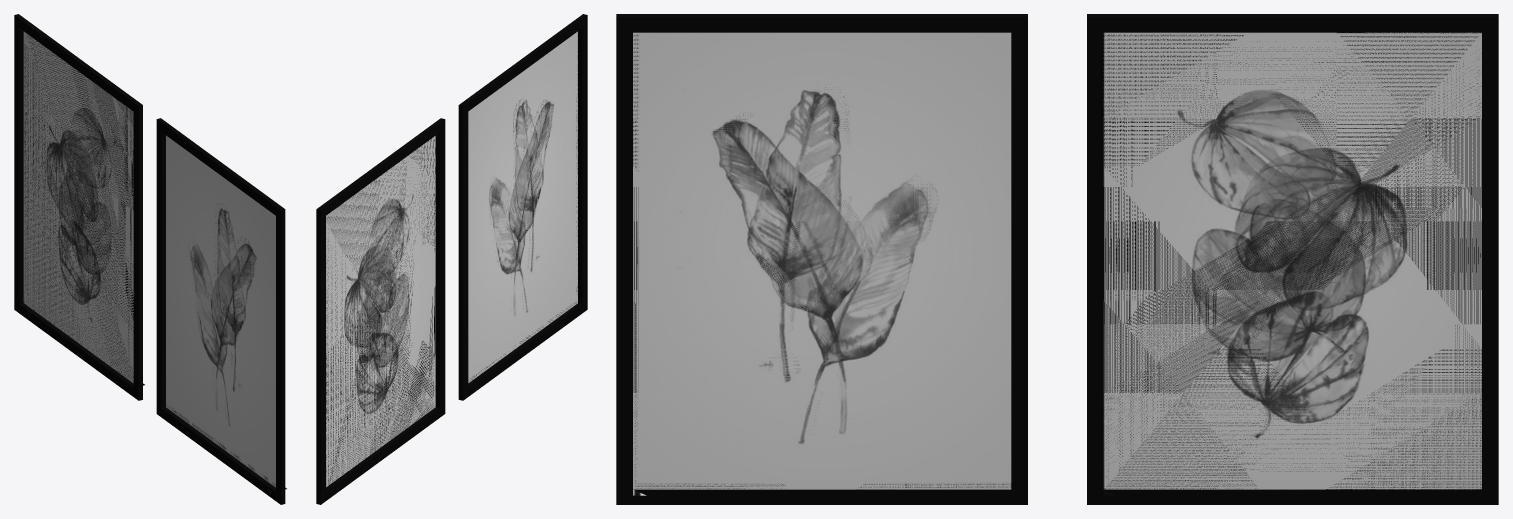
Rendered from art22.dae.
3 views of the same model, side by side, from view 1: azimuth 30°, elevation 25°; view 2: azimuth 150°, elevation 25°; view 3: azimuth 270°, elevation 25° (orthographic). The views are drawn at different scales.
Visible parts, largest first — view 1: group_2, group_5, group_4 (×2), group_1 (×2); view 2: group_2, group_5, group_4 (×2), group_1 (×2); view 3: group_2, group_5, group_1, group_4.
Part boxes in pixels (x1=…): group_2: x1=23, y1=31, x2=133, y2=383; group_5: x1=166, y1=135, x2=275, y2=487; group_4 (×2): x1=156, y1=118, x2=285, y2=504; group_1 (×2): x1=14, y1=14, x2=142, y2=400; group_2: x1=326, y1=136, x2=435, y2=487; group_5: x1=468, y1=31, x2=577, y2=382; group_4 (×2): x1=458, y1=14, x2=587, y2=400; group_1 (×2): x1=316, y1=118, x2=445, y2=504; group_2: x1=1103, y1=32, x2=1481, y2=489; group_5: x1=633, y1=32, x2=1011, y2=489; group_1: x1=1087, y1=14, x2=1498, y2=504; group_4: x1=616, y1=14, x2=1027, y2=504.
Bounding box in the file's own units: 1.59 × 62.01 × 37.8.
Materials: 4 (3 with a texture image).
